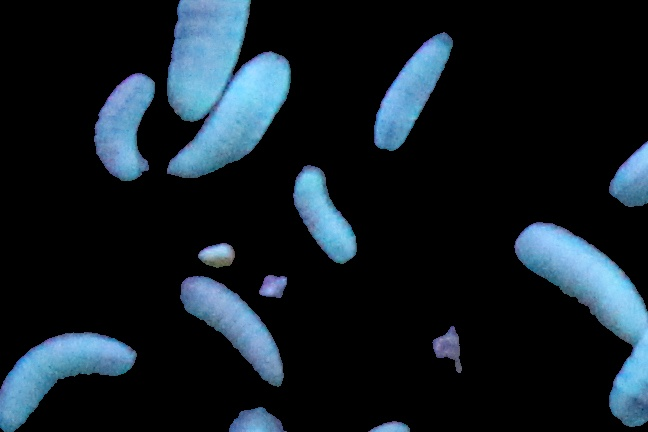larvae: (510, 220, 648, 342), (168, 52, 292, 178), (1, 330, 138, 430), (179, 275, 280, 390), (165, 1, 248, 124), (374, 30, 447, 164), (91, 67, 156, 184), (294, 163, 353, 262)
